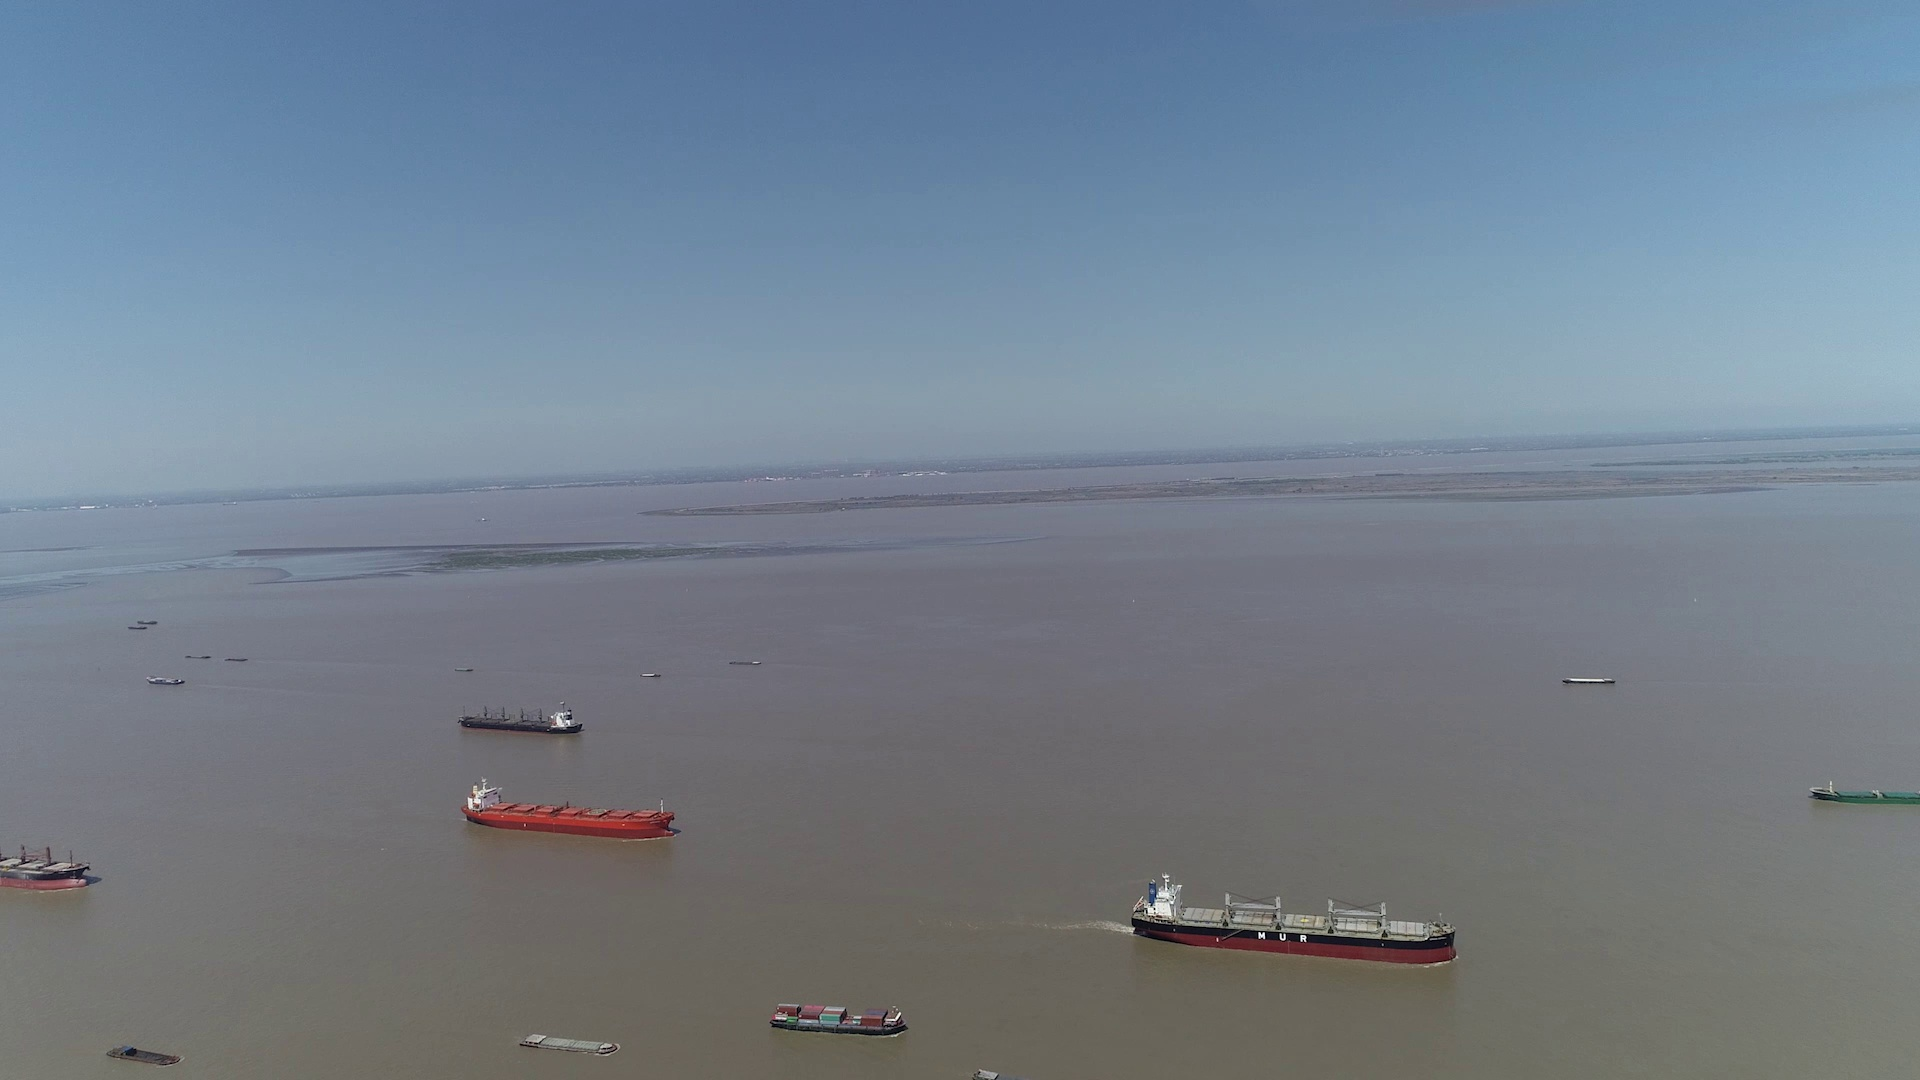ship: (1131, 873, 1458, 965), (464, 775, 678, 839), (0, 837, 95, 893), (767, 1002, 906, 1036), (460, 703, 583, 735), (1809, 781, 1919, 804), (520, 1033, 620, 1056), (109, 1046, 183, 1068), (1564, 676, 1615, 686), (145, 676, 185, 686)
